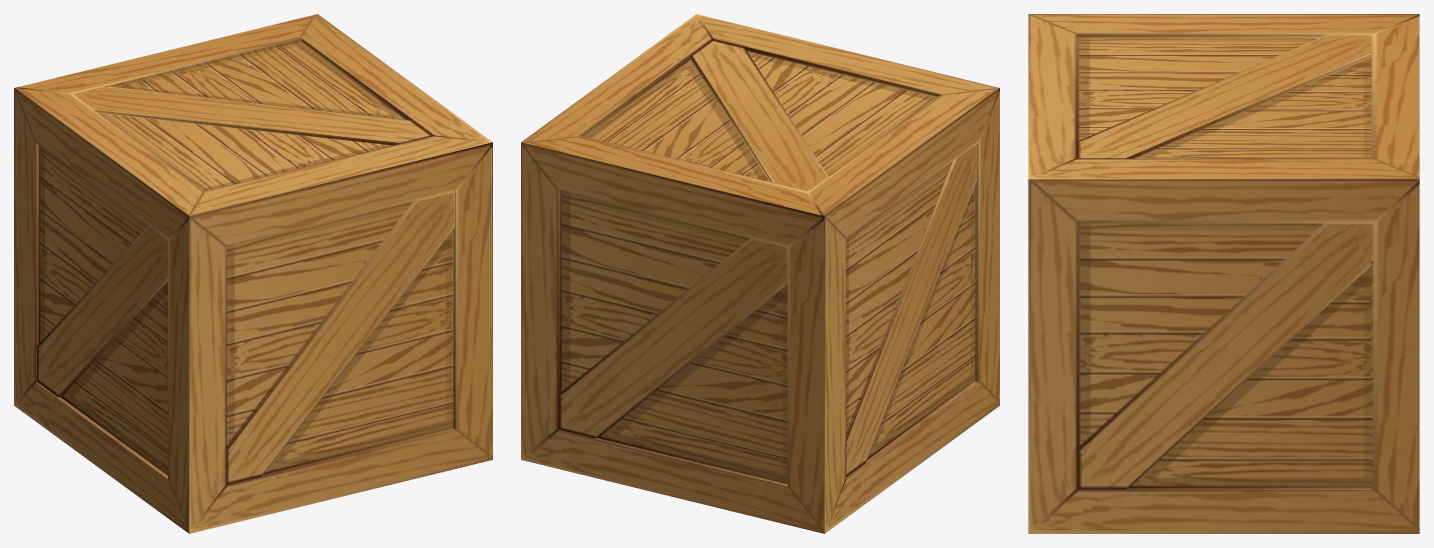
3 renders of one model, left to right at view 1: azimuth 30°, elevation 25°; view 2: azimuth 150°, elevation 25°; view 3: azimuth 270°, elevation 25°, orthographic. The views are drawn at different scales.
Parts seen in each view (by area): view 1: Cube.002; view 2: Cube.002; view 3: Cube.002.
Part boxes in pixels (box(x1,y1,x2,y2)): Cube.002: box(14, 14, 492, 533); Cube.002: box(521, 14, 999, 533); Cube.002: box(1028, 14, 1419, 533).
Size of the model in its own units: 194 by 194 by 194.
1 material, 1 textured.
